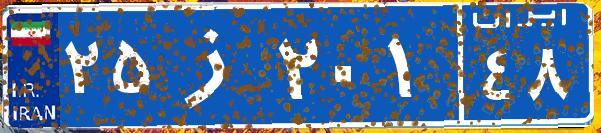0: (330, 28, 385, 110)
1: (385, 28, 445, 110)
2: (273, 28, 330, 110), (57, 26, 110, 107)
4: (475, 38, 525, 113)
5: (110, 28, 158, 105)
8: (525, 38, 570, 115)
ز: (158, 15, 273, 115)
